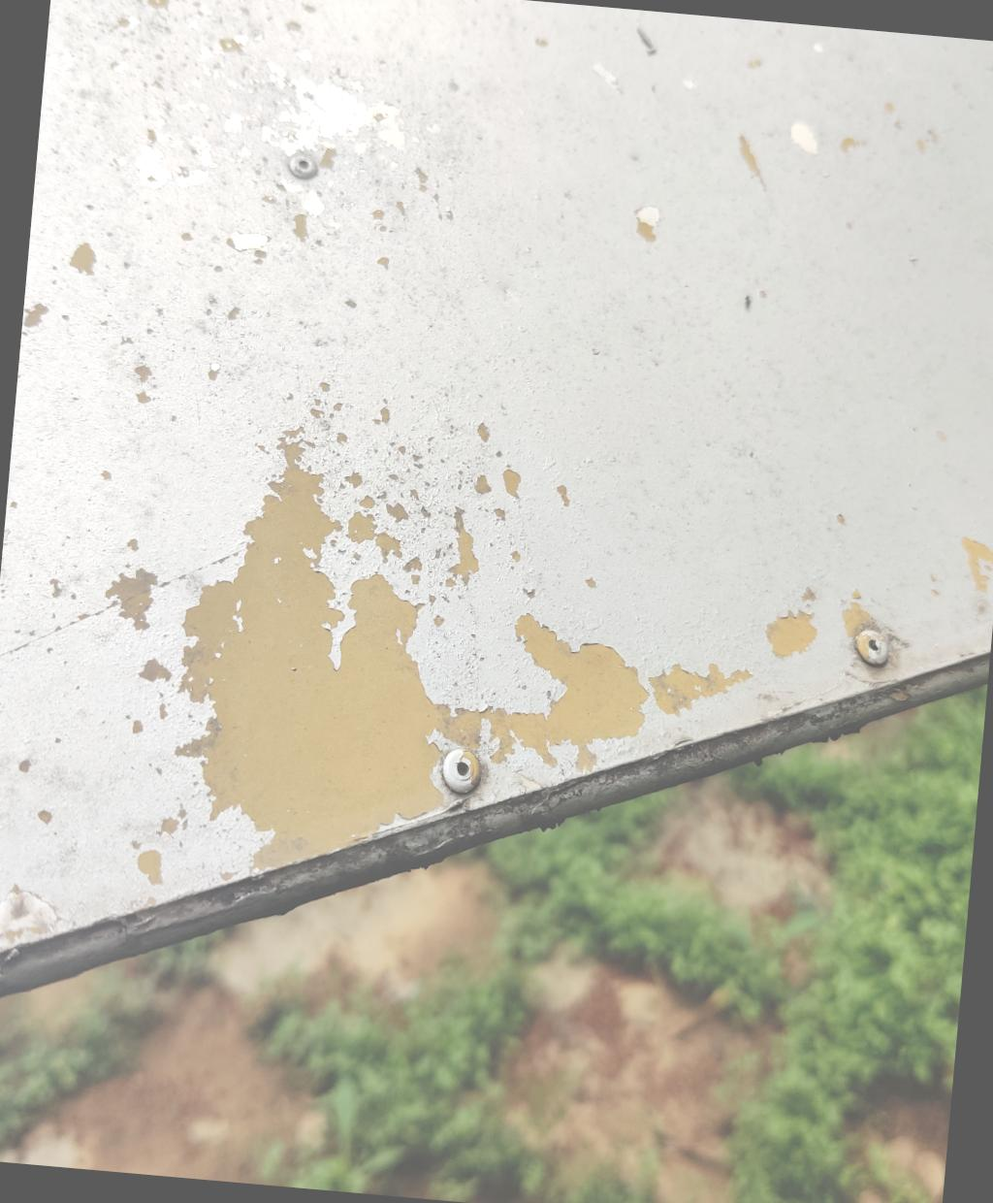corrosion: (155, 437, 822, 925)
